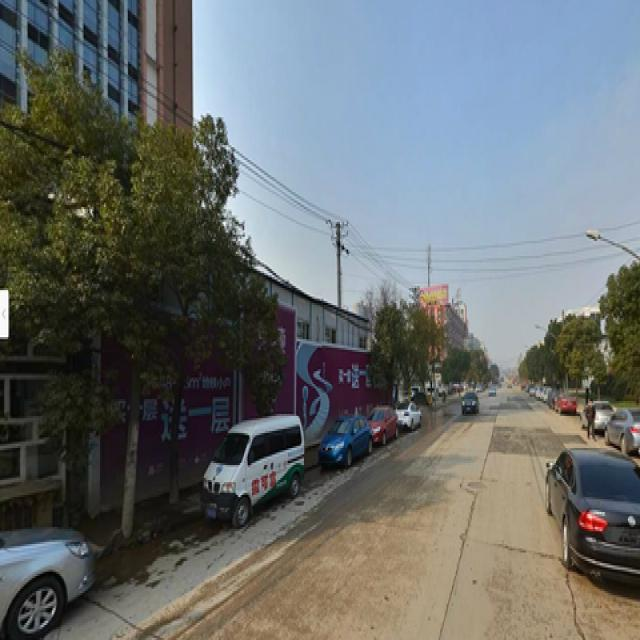cinn: (143, 150, 221, 487)
